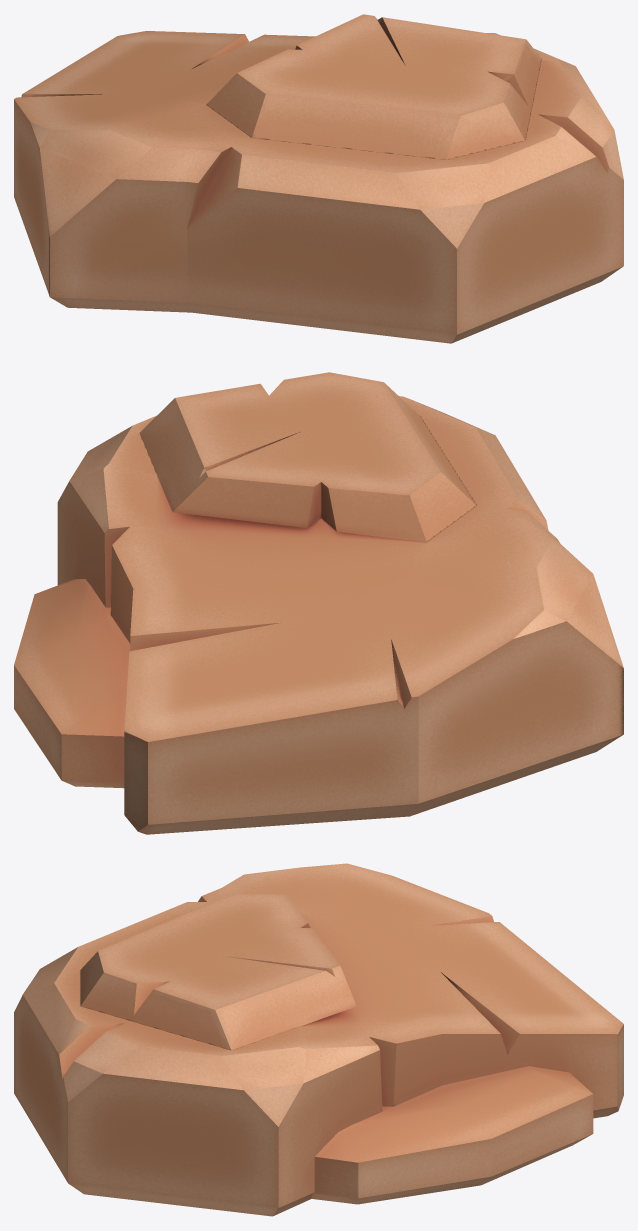
Rendered from rock_9.fbx.
3 views of the same model, one above another, from view 1: azimuth 30°, elevation 25°; view 2: azimuth 150°, elevation 25°; view 3: azimuth 270°, elevation 25° (orthographic). The views are drawn at different scales.
Visible parts, largest first — view 1: Rock_9; view 2: Rock_9; view 3: Rock_9.
Part boxes in pixels (<box>): Rock_9: <box>14,14,623,343</box>; Rock_9: <box>14,372,623,834</box>; Rock_9: <box>14,863,623,1216</box>.
Bounding box in the file's own units: 267 × 99.59 × 290.
1 material, 1 textured.
